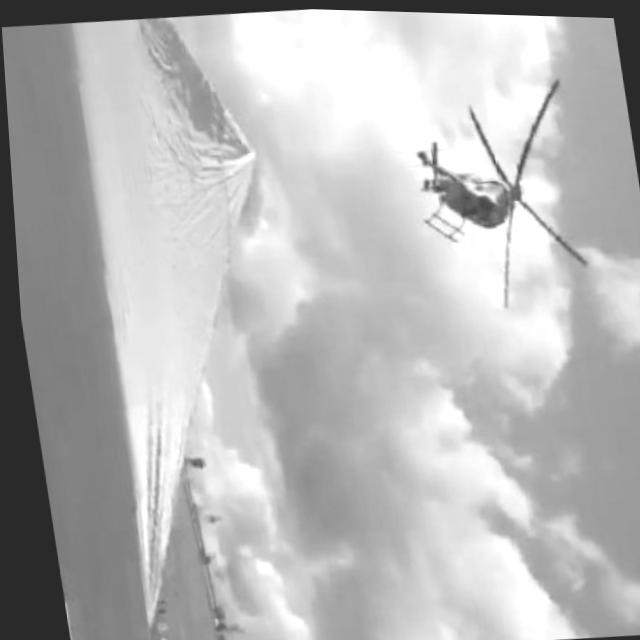helikopter: (379, 63, 604, 317)
